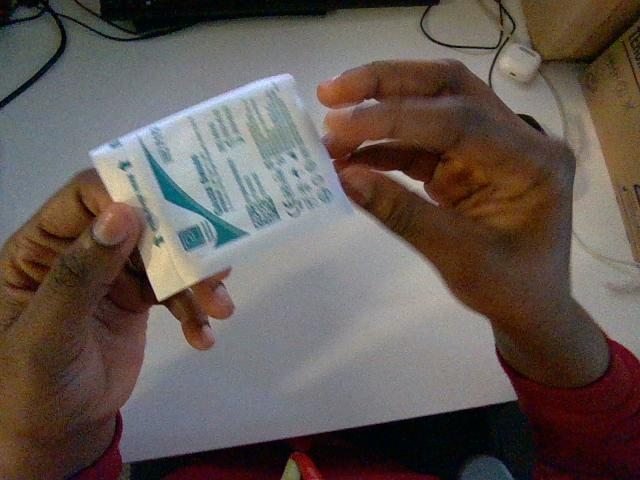gauze: (90, 75, 352, 299)
